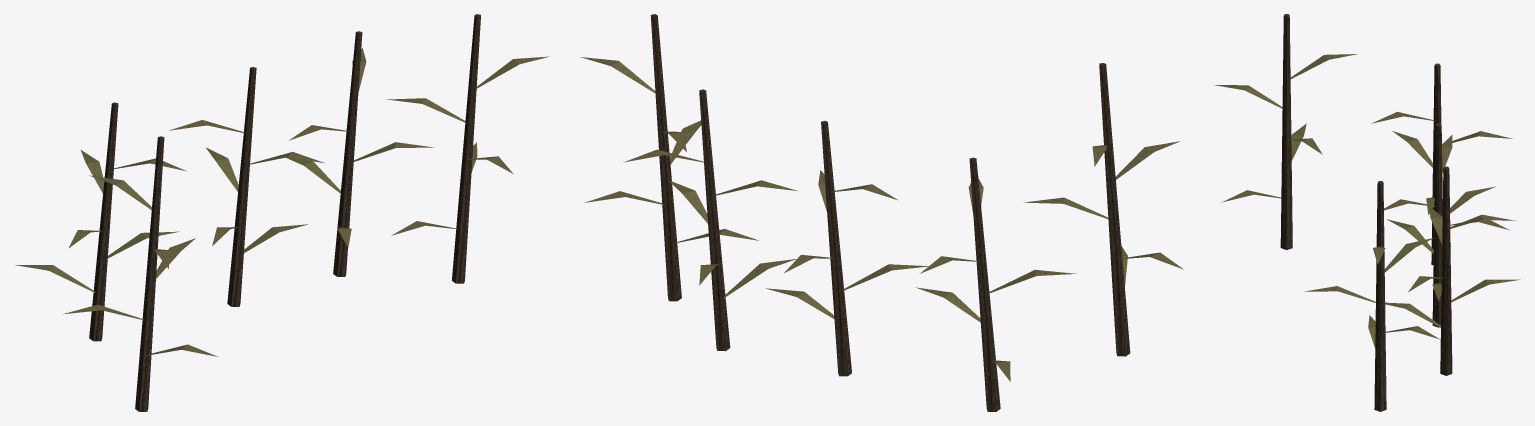
Rendered from env_ground_06_weeds_dry.glb.
The picture shows the model from 3 angles, left to right: view 1: azimuth 30°, elevation 25°; view 2: azimuth 150°, elevation 25°; view 3: azimuth 270°, elevation 25°; orthographic projection. The views are drawn at different scales.
Visible parts, largest first — view 1: solid, foliage; view 2: solid, foliage; view 3: solid, foliage.
Part boxes in pixels (bbox=[...]): solid: bbox=[89, 14, 480, 411]; foliage: bbox=[15, 48, 550, 356]; solid: bbox=[650, 14, 1130, 411]; foliage: bbox=[580, 57, 1183, 381]; solid: bbox=[1280, 14, 1452, 411]; foliage: bbox=[1214, 54, 1520, 348].
Size of the model in its own units: 0.6878 by 0.3334 by 0.3857.
Materials: 2 (2 with a texture image).
